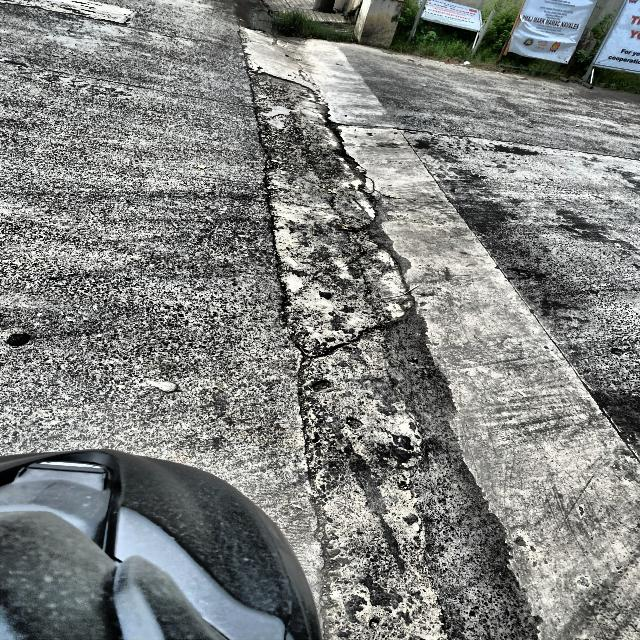major_scaling: (0, 0, 323, 599)
